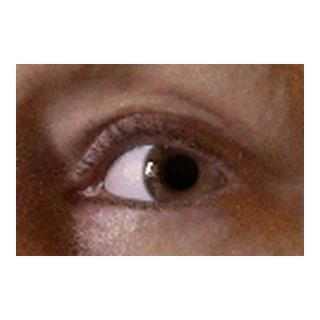pupil: (163, 155, 199, 191)
